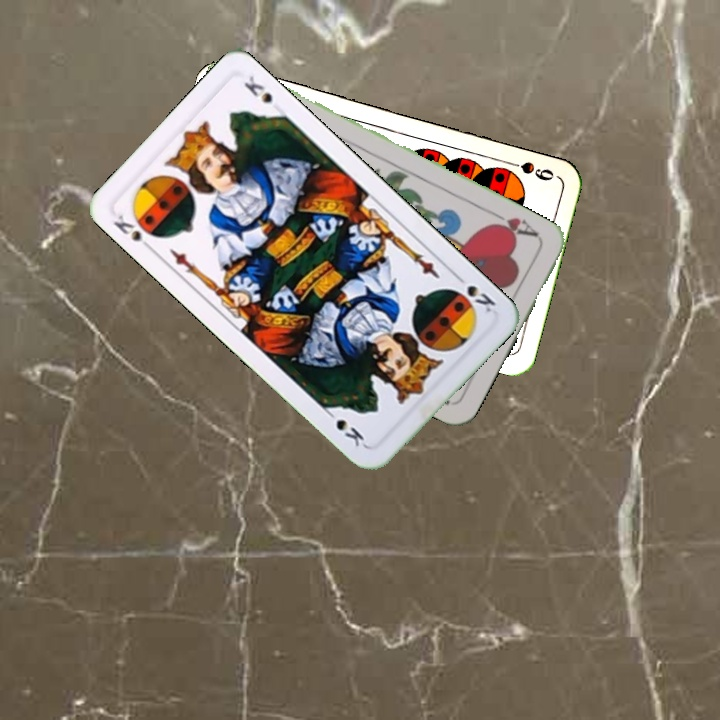HA: (485, 207, 541, 241)
S9: (500, 156, 557, 184)
SK: (450, 269, 499, 318), (109, 210, 157, 252)
